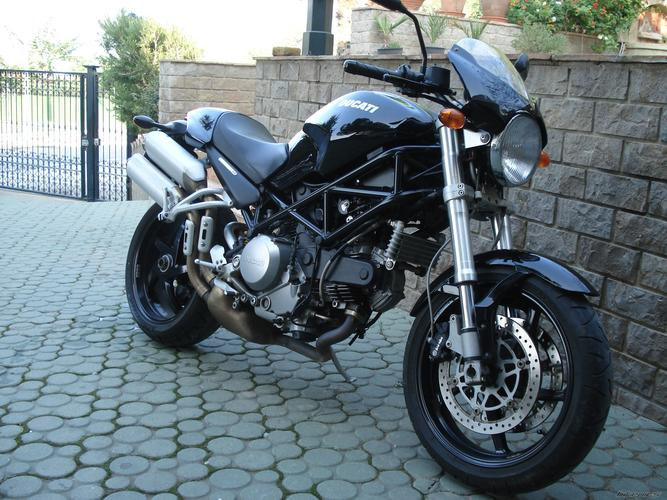摩托车: (90, 1, 614, 496)
